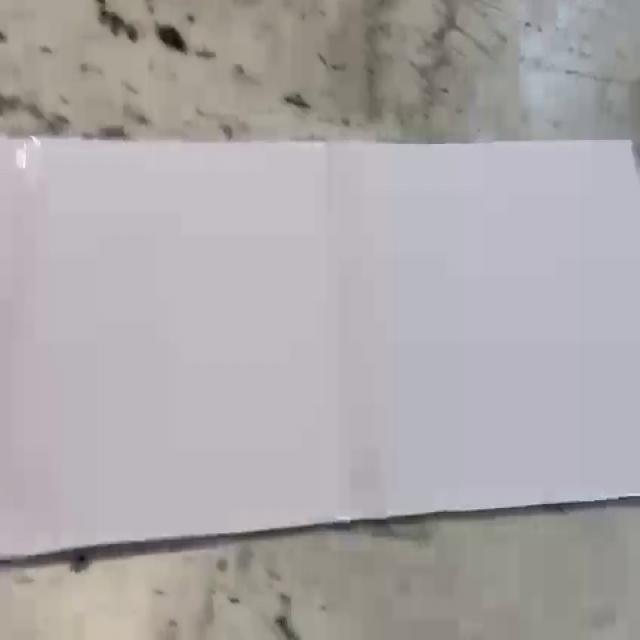road: (0, 136, 640, 557)
